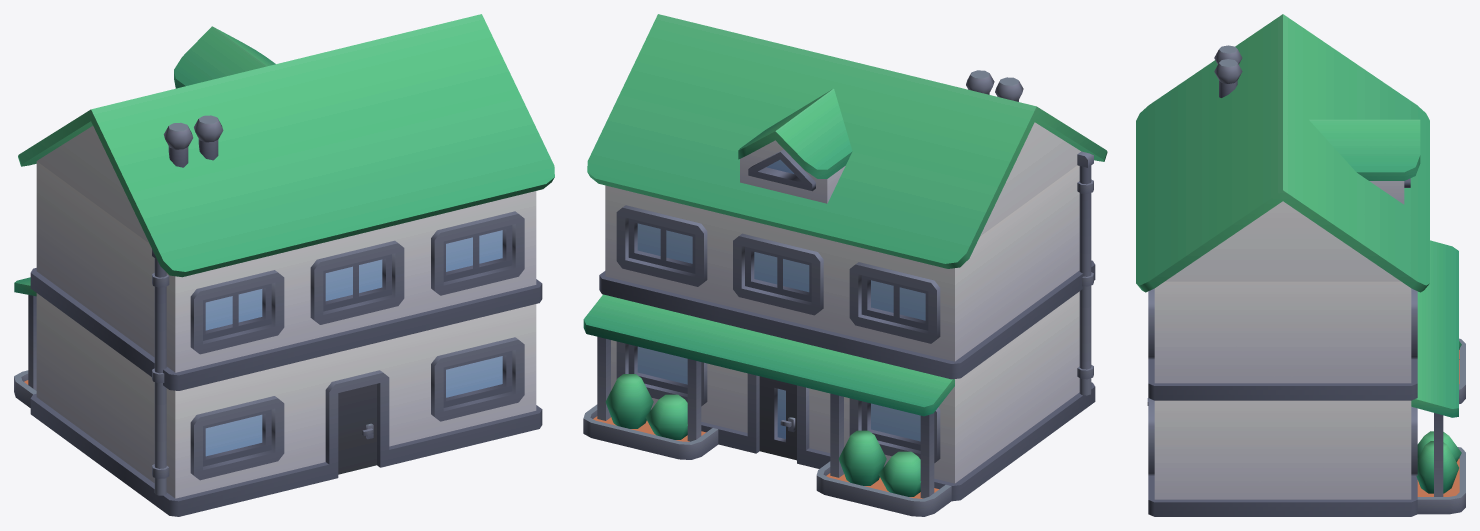
Rendered from k-city-kit-suburban-building-type-e.glb.
3 views of the same model, side by side, from view 1: azimuth 30°, elevation 25°; view 2: azimuth 150°, elevation 25°; view 3: azimuth 270°, elevation 25° (orthographic). The views are drawn at different scales.
Visible parts, largest first — view 1: building-type-e; view 2: building-type-e; view 3: building-type-e.
Part boxes in pixels (box(x1,y1,x2,y2)): building-type-e: box(14, 14, 554, 516); building-type-e: box(583, 14, 1107, 516); building-type-e: box(1136, 14, 1465, 516).
Size of the model in its own units: 1.3 by 1.14 by 1.03.
Materials: 1 (1 with a texture image).
